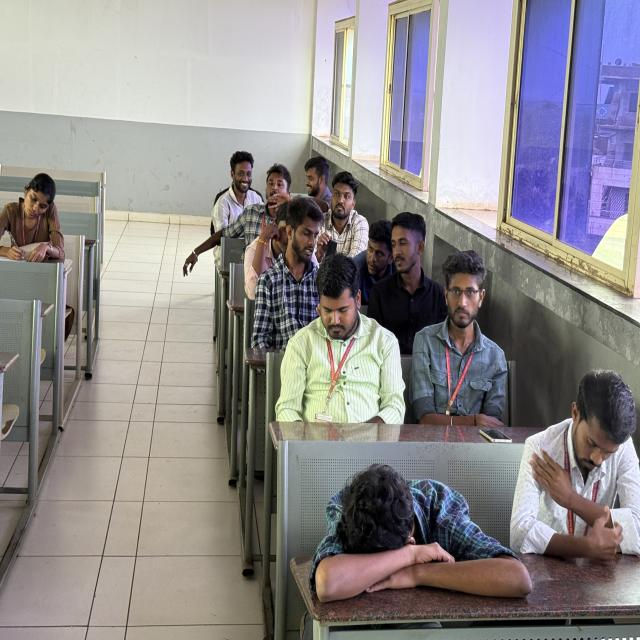Sleeping: (308, 460, 532, 609)
Writing: (1, 162, 66, 269)
